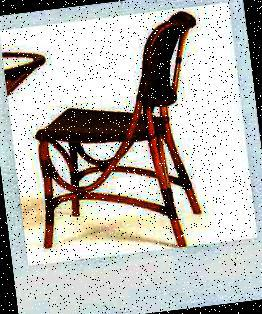Silla: (17, 3, 226, 267)
